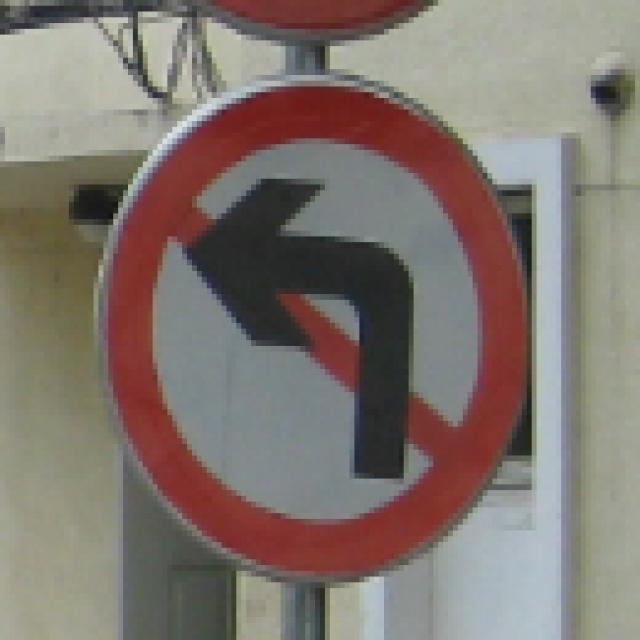Not that Direction: (88, 74, 534, 586)
